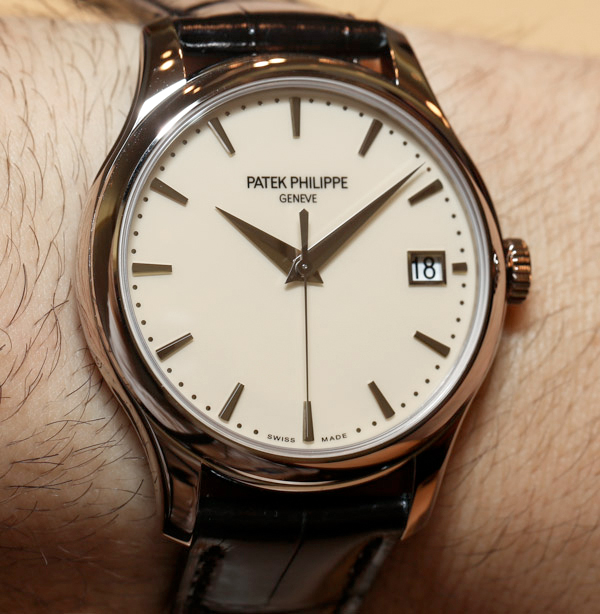clock: (120, 82, 490, 459)
